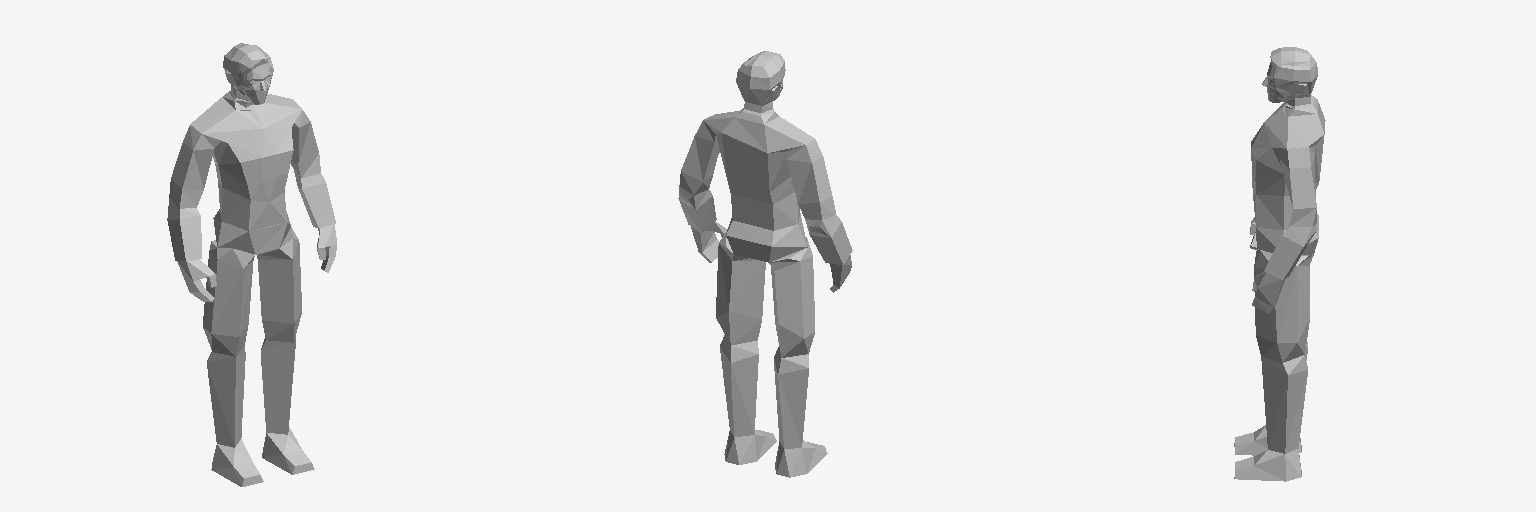
File: Manuel18.obj
3 views of the same model, side by side, from view 1: azimuth 30°, elevation 25°; view 2: azimuth 150°, elevation 25°; view 3: azimuth 270°, elevation 25° (orthographic).
Parts seen in each view (by area): view 1: leon; view 2: leon; view 3: leon.
Part boxes in pixels (bbox=[...]): leon: bbox=[167, 43, 336, 486]; leon: bbox=[678, 51, 852, 477]; leon: bbox=[1234, 47, 1325, 481].
Size of the model in its own units: 4.83 by 12.18 by 2.44.